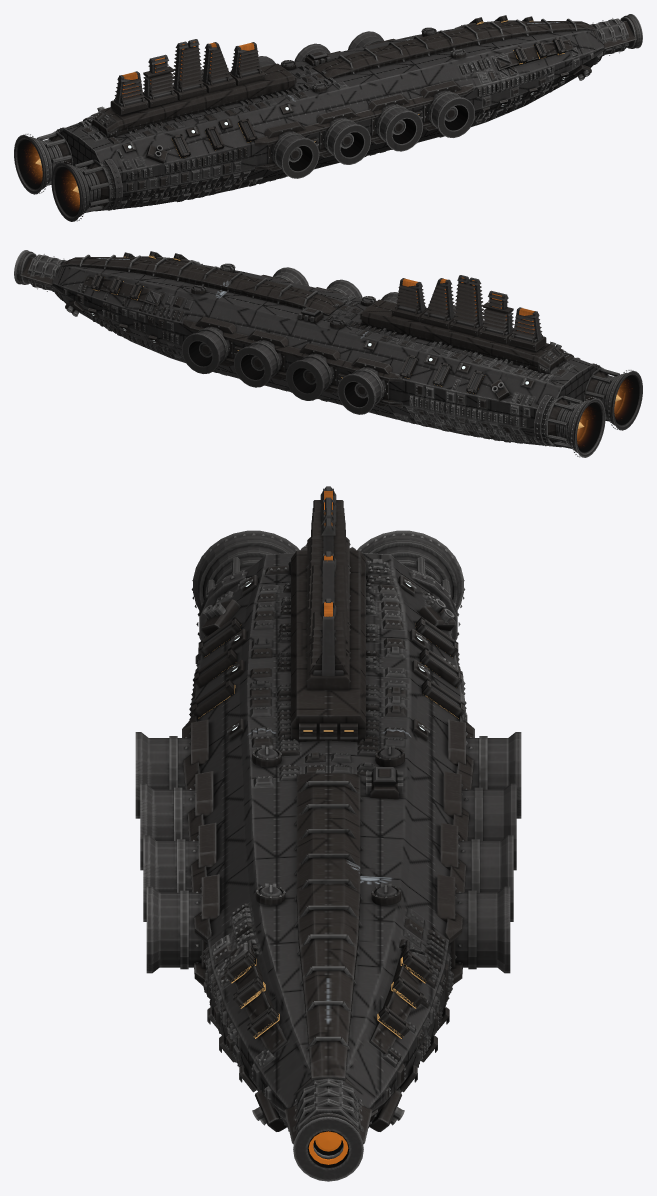
The picture shows the model from 3 angles, top to bottom: view 1: azimuth 30°, elevation 25°; view 2: azimuth 150°, elevation 25°; view 3: azimuth 270°, elevation 25°; orthographic projection. The views are drawn at different scales.
Visible parts, largest first — view 1: V16_37; view 2: V16_37; view 3: V16_37.
Part boxes in pixels (bbox=[...]): V16_37: bbox=[14, 14, 642, 221]; V16_37: bbox=[14, 250, 642, 457]; V16_37: bbox=[135, 486, 521, 1181].
Bounding box in the file's own units: 1 × 0.2426 × 0.2848.
17 materials, 3 textured.
